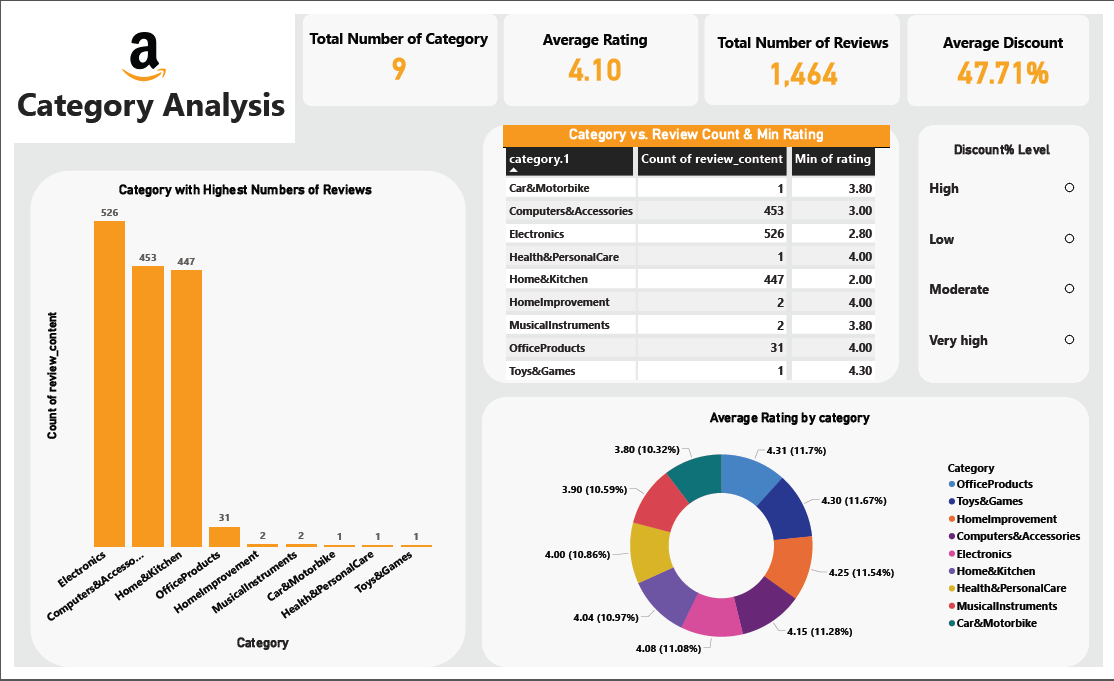

The page's visual inventory and layout, read from the dashboard file:
{"tool":"powerbi","page":{"name":" Category Analysis","canvas":[2000,1200],"ordinal":2},"visuals":[{"type":"shape","box":[862.2,204.4,764.4,473.3],"z":0},{"type":"shape","box":[0,0,516.2,236.5],"z":1000},{"type":"shape","box":[530.6,0,358.3,169.4],"z":2000},{"type":"shape","box":[30.2,288.4,800,911.6],"z":3000},{"type":"shape","box":[860,704.4,1115.6,495.6],"z":4000},{"type":"shape","box":[1269.4,0,358.3,166.7],"z":5000},{"type":"shape","box":[900,0,358.3,169.4],"z":6000},{"type":"shape","box":[1642.2,2.2,333.3,166.7],"z":7000},{"type":"cardVisual","fields":{"Data":["Amazon Sales.Total Number of Category"]},"box":[513.9,0,386.1,155.6],"z":8000},{"type":"cardVisual","fields":{"Data":["Amazon Sales.Average Rating"]},"box":[888.9,2.8,358.3,152.8],"z":9000},{"type":"cardVisual","fields":{"Data":["Amazon Sales.Total Number of Reviews"]},"box":[1272.2,0,355.6,172.2],"z":10000},{"type":"cardVisual","fields":{"Data":["Amazon Sales.Average Discount"]},"box":[1661.1,13.9,313.9,141.7],"z":11000},{"type":"textbox","box":[0,118.9,513.5,117.6],"z":12000},{"type":"image","box":[190.5,28.4,95.9,101.4],"z":13000},{"type":"donutChart","title":"Average Rating by category","fields":{"Category":["Amazon Sales.category.1"],"Y":["Avg(Amazon Sales.rating)"]},"box":[879.5,726.9,1094.9,473.1],"z":14000},{"type":"columnChart","title":" Category with Highest Numbers of Reviews","fields":{"Category":["Amazon Sales.category.1"],"Y":["CountNonNull(Amazon Sales.review_content)"]},"box":[51.3,307.7,750,866.7],"z":15000},{"type":"pivotTable","title":"Category vs. Review Count & Min Rating","fields":{"Rows":["Amazon Sales.category.1"],"Values":["CountNonNull(Amazon Sales.review_content)","Min(Amazon Sales.rating)"]},"box":[900,204.4,708.9,473.3],"z":16000},{"type":"shape","box":[1662.2,204.4,313.3,473.3],"z":17000},{"type":"listSlicer","title":"Discount% Level","fields":{"Values":["Amazon Sales.Discount_percentage_category"]},"box":[1675.6,235.6,280,413.3],"z":18000}]}

Visuals, with their boxes in screenshot pixels (x1, y1, x2, y2), scaled from the page's 2000x1200 canvas onto the 1114x681 screenshot:
shape: (480, 116, 906, 385)
shape: (0, 0, 288, 134)
shape: (296, 0, 495, 96)
shape: (17, 164, 462, 680)
shape: (479, 400, 1100, 680)
shape: (707, 0, 907, 95)
shape: (501, 0, 701, 96)
shape: (915, 1, 1100, 96)
cardVisual - Amazon Sales.Total Number of Category: (286, 0, 501, 88)
cardVisual - Amazon Sales.Average Rating: (495, 2, 695, 88)
cardVisual - Amazon Sales.Total Number of Reviews: (709, 0, 907, 98)
cardVisual - Amazon Sales.Average Discount: (925, 8, 1100, 88)
textbox: (0, 67, 286, 134)
image: (106, 16, 160, 74)
"Average Rating by category" donutChart: (490, 413, 1100, 680)
" Category with Highest Numbers of Reviews" columnChart: (29, 175, 446, 666)
"Category vs. Review Count & Min Rating" pivotTable: (501, 116, 896, 385)
shape: (926, 116, 1100, 385)
"Discount% Level" listSlicer: (933, 134, 1089, 368)
